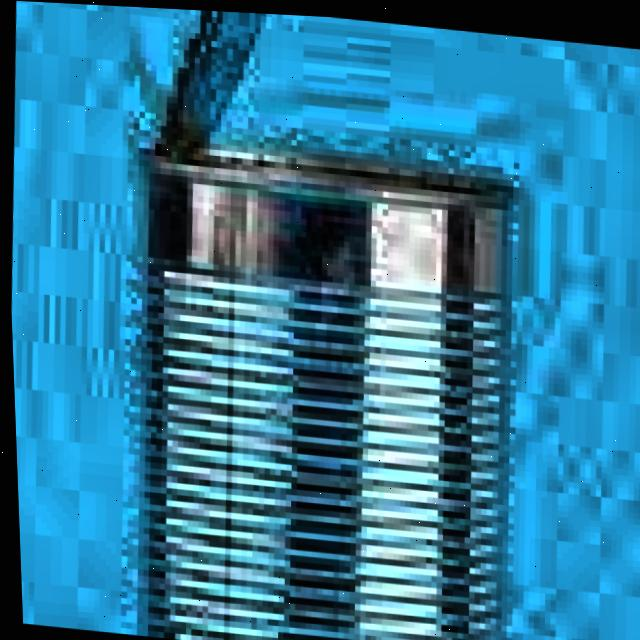metal: (97, 4, 551, 640)
